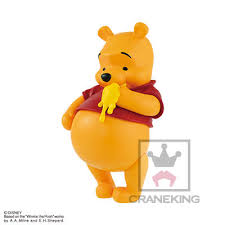Winnie: (90, 20, 160, 123)
